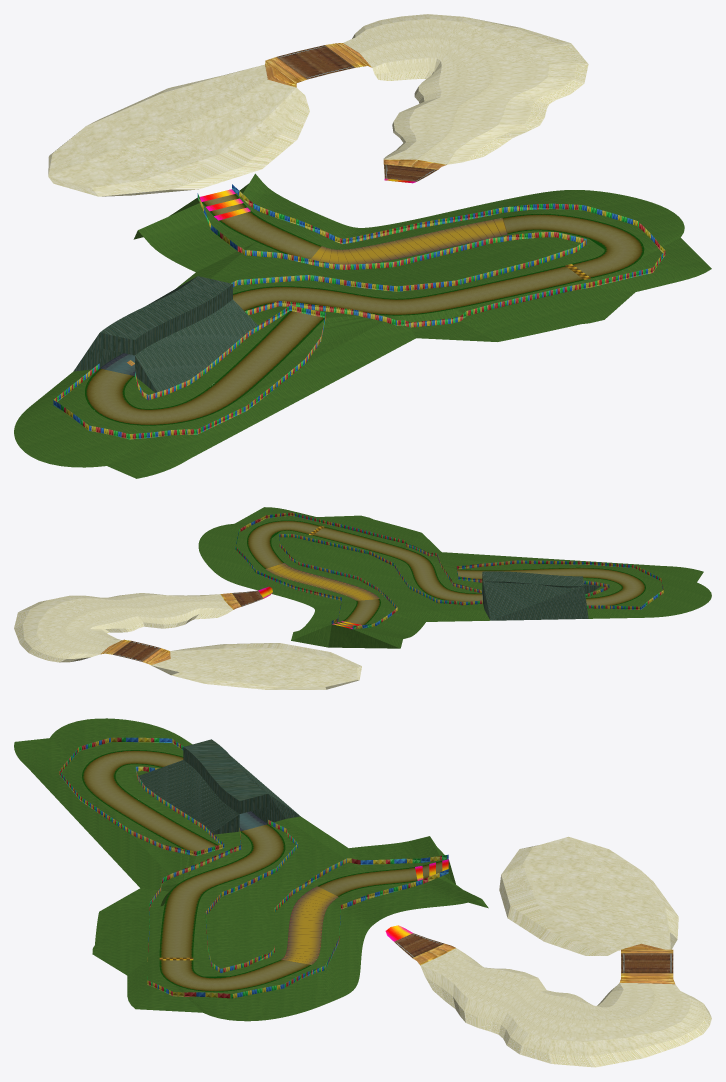
The picture shows the model from 3 angles, top to bottom: view 1: azimuth 30°, elevation 25°; view 2: azimuth 150°, elevation 25°; view 3: azimuth 270°, elevation 25°; orthographic projection. The views are drawn at different scales.
Parts seen in each view (by area): view 1: Grass.004, Sand.001, Road.009, Fence.003, RockWall.001, Waterroad, Wood.001, Ramp.001; view 2: Grass.004, Sand.001, Road.009, RockWall.001, Fence.003, Waterroad, Wood.001, Ramp.001; view 3: Grass.004, Sand.001, Road.009, RockWall.001, Fence.003, Waterroad, Wood.001, Ramp.001.
Part boxes in pixels (left/top/right/bottom): Grass.004: left=14, top=173, right=711, bottom=478; Sand.001: left=48, top=14, right=588, bottom=196; Road.009: left=85, top=194, right=644, bottom=425; Fence.003: left=53, top=184, right=665, bottom=439; RockWall.001: left=73, top=276, right=257, bottom=392; Waterroad: left=311, top=217, right=507, bottom=264; Wood.001: left=277, top=45, right=437, bottom=181; Ramp.001: left=265, top=43, right=446, bottom=169; Grass.004: left=198, top=507, right=711, bottom=648; Sand.001: left=14, top=593, right=361, bottom=689; Road.009: left=247, top=520, right=645, bottom=627; RockWall.001: left=482, top=571, right=600, bottom=620; Fence.003: left=235, top=512, right=663, bottom=629; Waterroad: left=265, top=563, right=379, bottom=600; Wood.001: left=113, top=590, right=263, bottom=661; Ramp.001: left=100, top=593, right=241, bottom=664; Grass.004: left=14, top=718, right=488, bottom=1021; Sand.001: left=420, top=836, right=711, bottom=1067; Road.009: left=82, top=750, right=442, bottom=991; RockWall.001: left=138, top=739, right=300, bottom=834; Fence.003: left=59, top=737, right=448, bottom=998; Waterroad: left=281, top=886, right=338, bottom=964; Wood.001: left=394, top=933, right=673, bottom=973; Ramp.001: left=412, top=943, right=674, bottom=984.
Size of what is drawn, in the model's own units: 97273 by 6491 by 83214.
11 materials, 11 textured.
